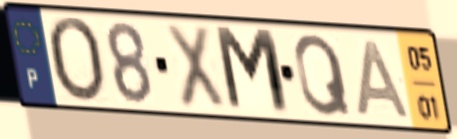8: (103, 19, 155, 107)
A: (354, 38, 413, 121)
M: (210, 23, 295, 120)
O: (44, 14, 108, 107)
Q: (291, 31, 355, 120)
X: (162, 21, 229, 115)
